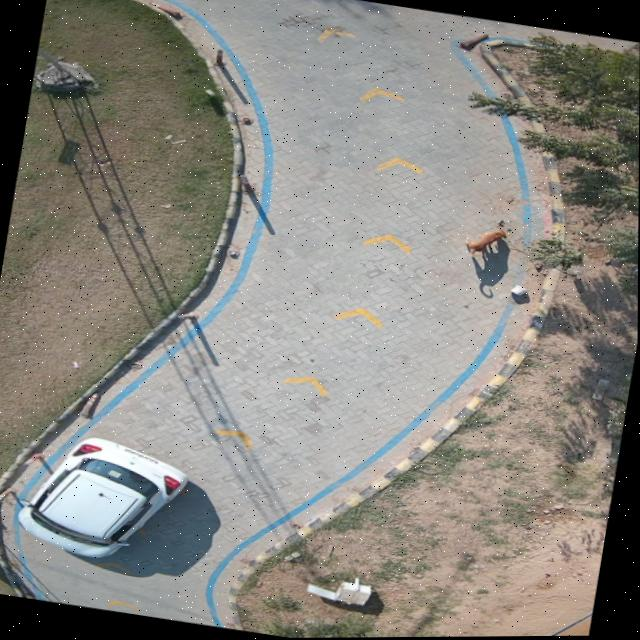car: (16, 435, 191, 558)
